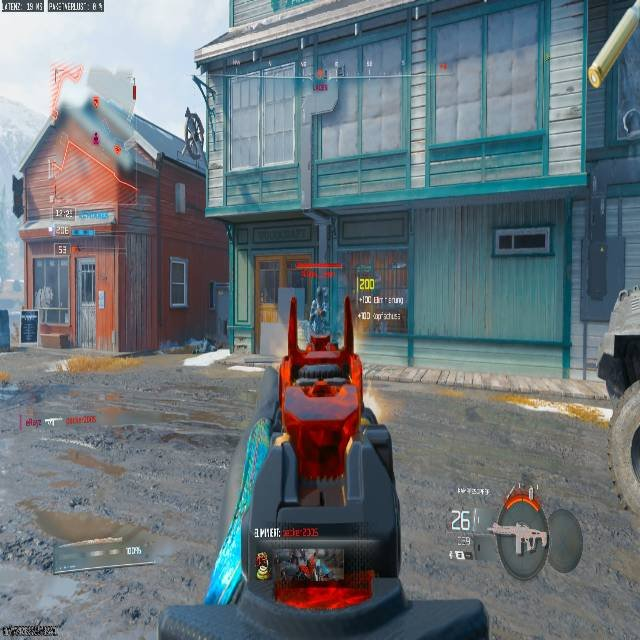player: (310, 285, 329, 330)
